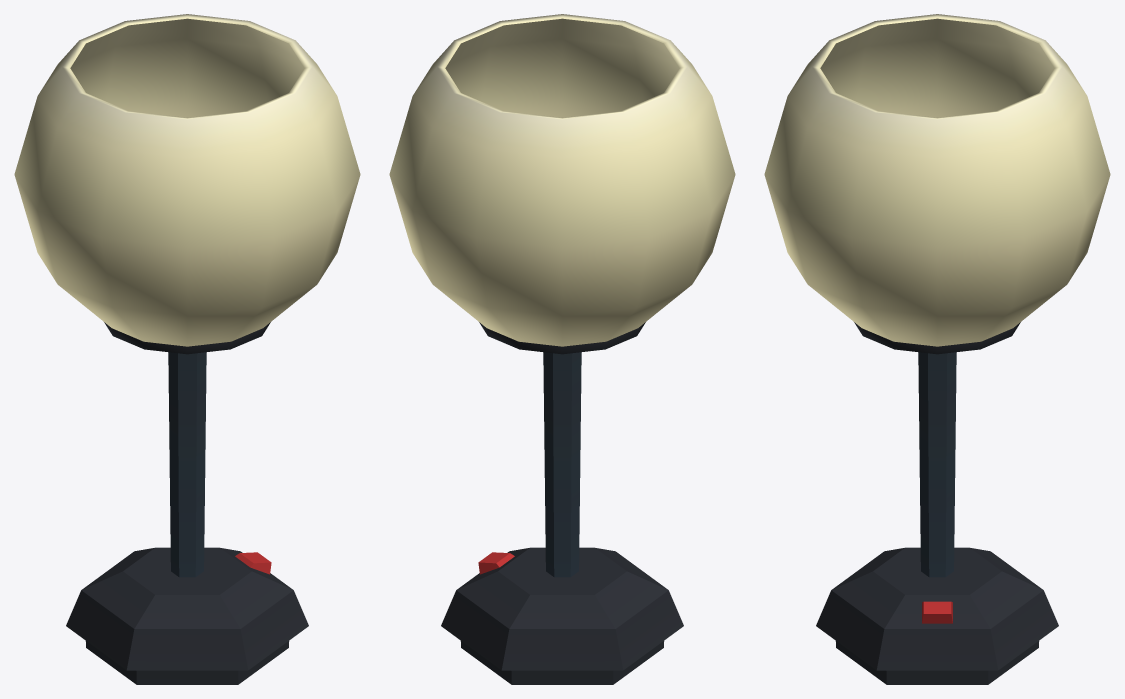
File: PP_Lamp3.fbx
3 views of the same model, side by side, from view 1: azimuth 30°, elevation 25°; view 2: azimuth 150°, elevation 25°; view 3: azimuth 270°, elevation 25° (orthographic).
Parts seen in each view (by area): view 1: Lamp_03; view 2: Lamp_03; view 3: Lamp_03.
Boxes of the visible parts, x1,y1,x2,y2 form: Lamp_03: (14,14,360,684); Lamp_03: (389,14,735,684); Lamp_03: (764,14,1110,684).
Bounding box in the file's own units: 30.17 × 55.87 × 30.17.
